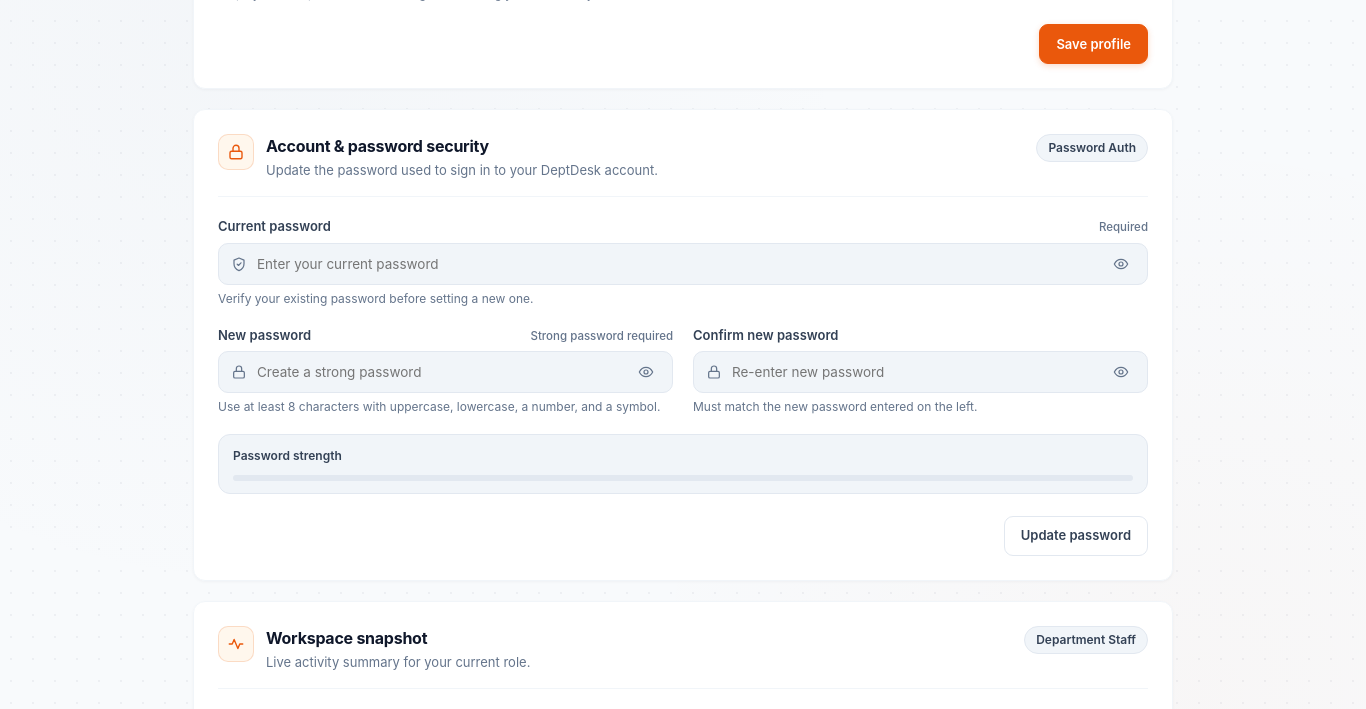
Scenario: ProfilePage password security › requires current password before updating
This screenshot has width=1366, height=709.
(page scrolled)
Type "StrongPass1!" into the password field with placeholder "Create a strong password" at (440, 372), box [257,352,622,392]
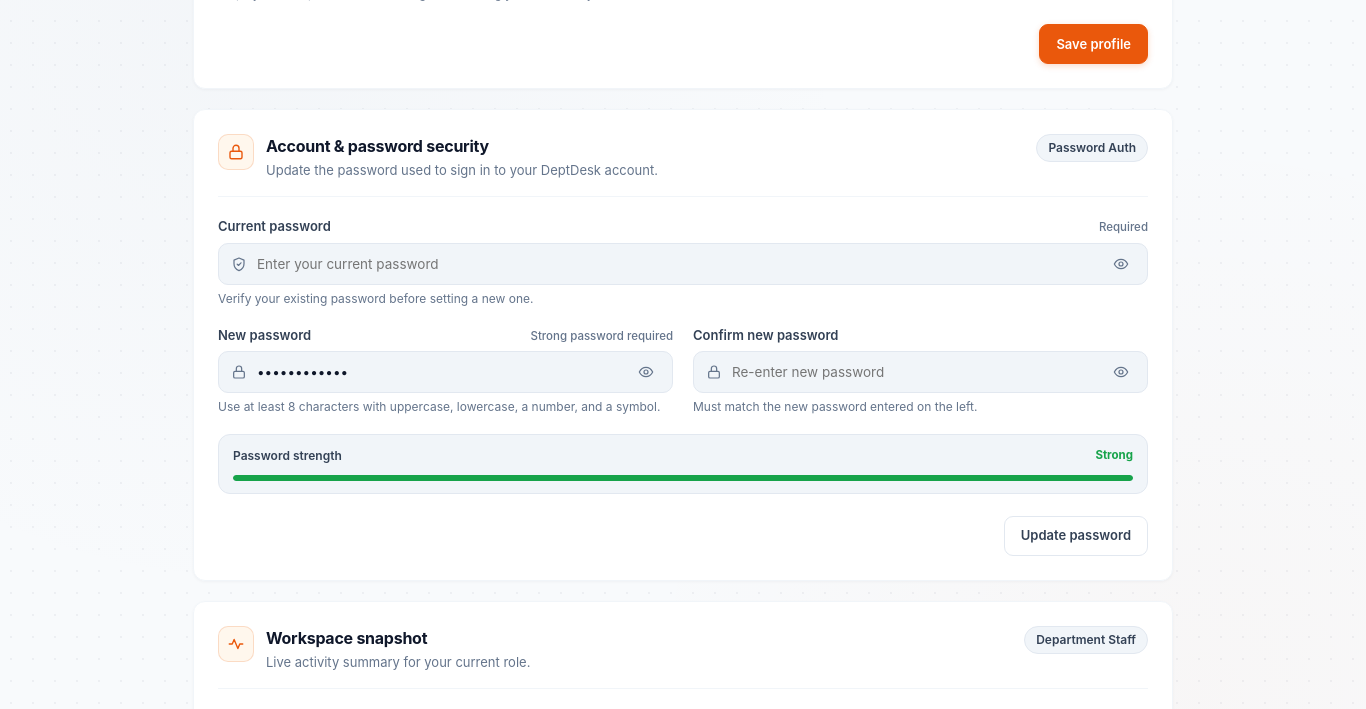
Type "StrongPass1!" into the password field with placeholder "Re-enter new password" at (914, 372), box [732,352,1097,392]
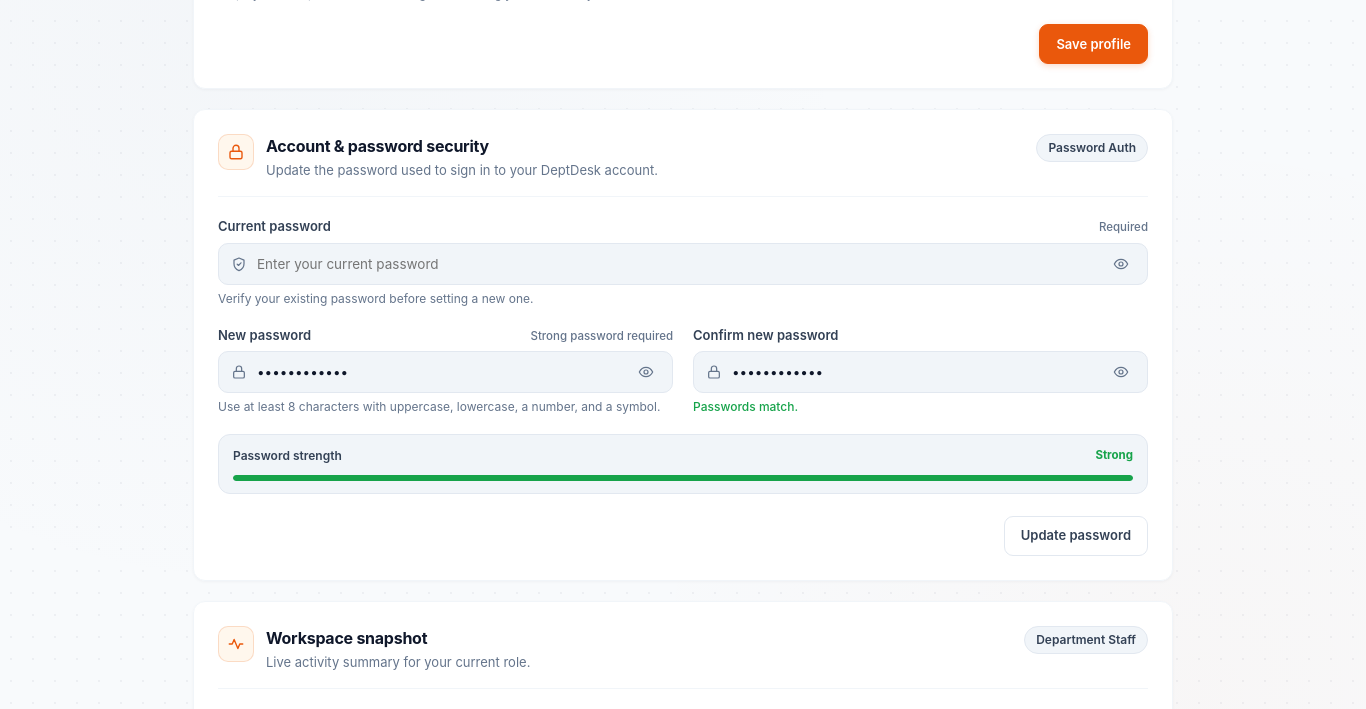
Click the button "Update password" at (1076, 536), box [1004,516,1148,556]
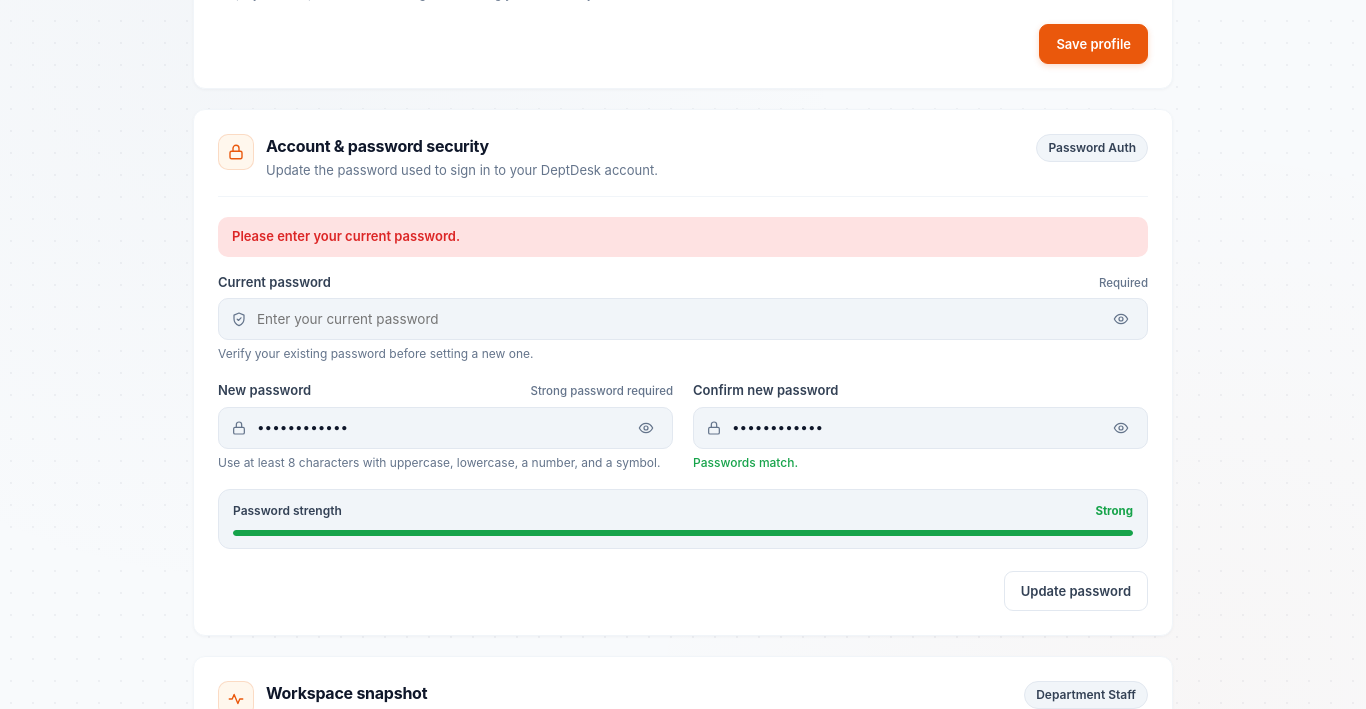
Expected: the text "Please enter your current password." is shown, [218,217,1148,257]
